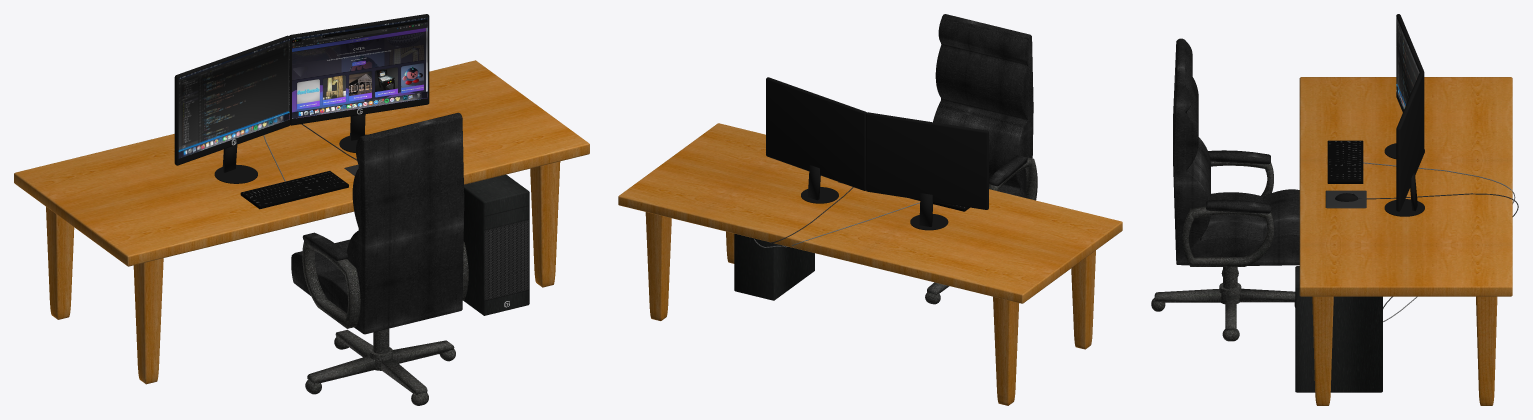
The model's file is desk.glb.
3 views of the same model, side by side, from view 1: azimuth 30°, elevation 25°; view 2: azimuth 150°, elevation 25°; view 3: azimuth 270°, elevation 25° (orthographic). The views are drawn at different scales.
Visible parts, largest first — view 1: desk_1, Chair_1, Monitor2_1, Monitor1_1, desktop, Keyboard_3; view 2: desk_1, Chair_1, Monitor1_1, Monitor2_1, desktop; view 3: desk_1, Chair_1, desktop, Monitor2_1, Monitor1_1, Keyboard_3, Mouse_1.
Boxes of the visible parts, x1,y1,x2,y2 form: desk_1: [14, 60, 589, 384]; Chair_1: [291, 112, 468, 405]; Monitor2_1: [289, 14, 429, 152]; Monitor1_1: [174, 35, 290, 183]; desktop: [463, 174, 529, 315]; Keyboard_3: [240, 171, 348, 209]; desk_1: [618, 123, 1122, 405]; Chair_1: [925, 14, 1037, 304]; Monitor1_1: [866, 112, 988, 230]; Monitor2_1: [766, 77, 866, 203]; desktop: [734, 233, 814, 300]; desk_1: [1299, 77, 1512, 405]; Chair_1: [1151, 38, 1299, 341]; desktop: [1295, 266, 1382, 392]; Monitor2_1: [1384, 71, 1424, 216]; Monitor1_1: [1384, 14, 1424, 158]; Keyboard_3: [1327, 140, 1363, 183]; Mouse_1: [1325, 190, 1518, 308].
Bounding box in the file's own units: 3.5 × 1.95 × 2.59.
9 materials, 7 textured.
